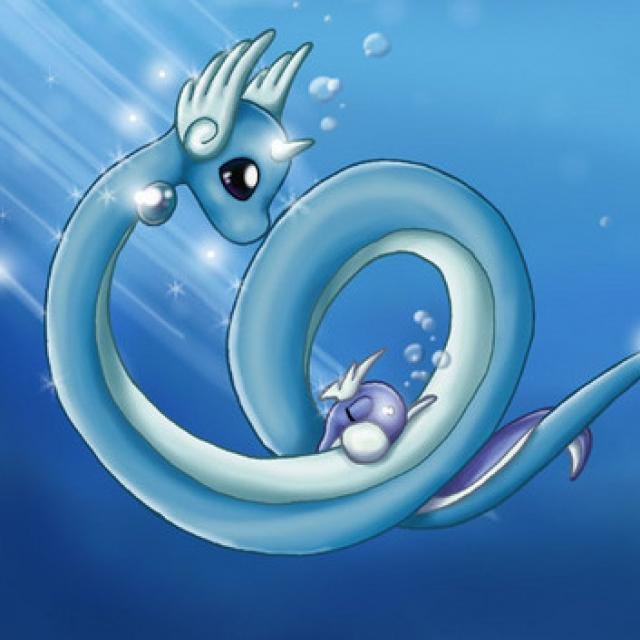Dragonair: (42, 39, 538, 559)
